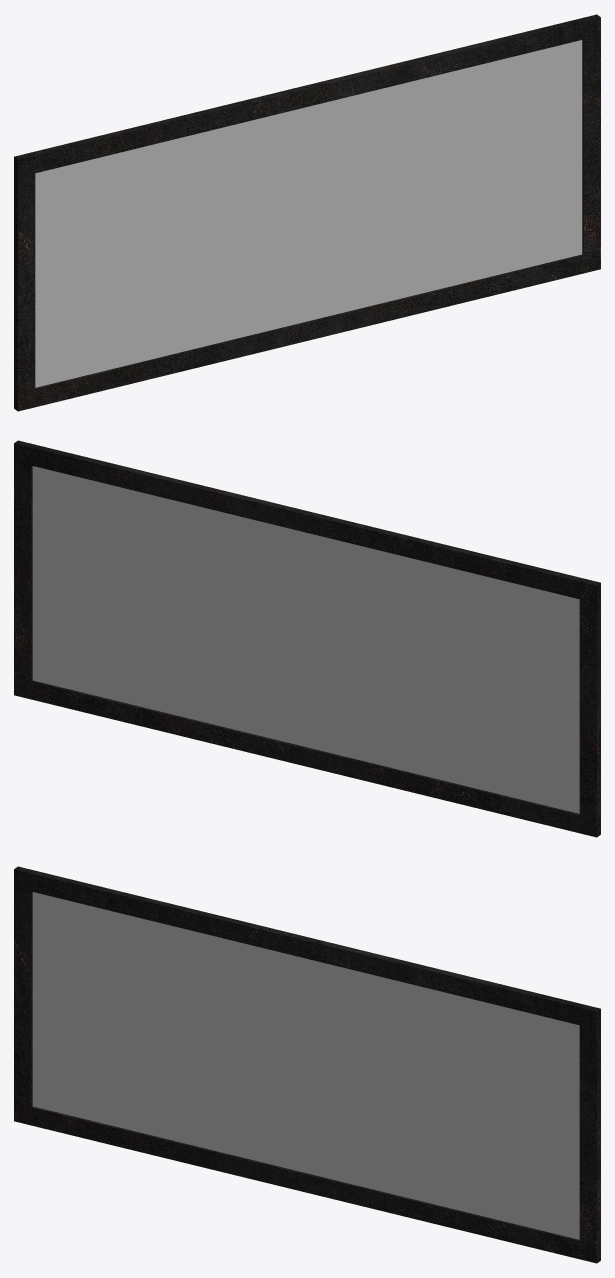
The model's file is simple meddium window black .fbx.
The picture shows the model from 3 angles, top to bottom: view 1: azimuth 30°, elevation 25°; view 2: azimuth 150°, elevation 25°; view 3: azimuth 330°, elevation 25°; orthographic projection.
Parts seen in each view (by area): view 1: glass, frame; view 2: glass, frame; view 3: glass, frame.
Boxes of the visible parts, x1,y1,x2,y2 form: glass: [35, 40, 582, 387]; frame: [14, 14, 600, 411]; glass: [32, 466, 579, 813]; frame: [14, 440, 600, 837]; glass: [32, 892, 579, 1239]; frame: [14, 866, 600, 1263].
Bounding box in the file's own units: 339 × 140 × 4.
